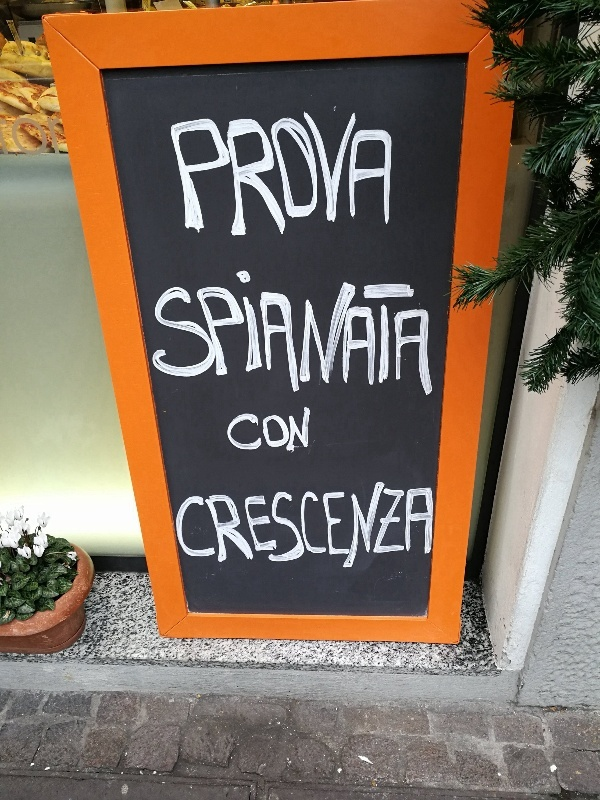text: (161, 259, 176, 405), (177, 259, 192, 405), (193, 259, 208, 405), (209, 259, 224, 405), (225, 259, 240, 405), (241, 259, 256, 405), (257, 259, 272, 405), (273, 259, 288, 405), (289, 259, 304, 405), (305, 259, 320, 405), (321, 259, 336, 405), (337, 259, 352, 405), (353, 259, 368, 405), (369, 259, 384, 405), (385, 259, 400, 405), (401, 259, 416, 405), (417, 259, 432, 405), (177, 104, 192, 244), (193, 104, 208, 244), (209, 104, 224, 244), (225, 104, 240, 244), (241, 104, 256, 244), (257, 104, 272, 244), (273, 104, 288, 244), (289, 104, 304, 244), (305, 104, 320, 244), (321, 104, 336, 244), (337, 104, 352, 244), (353, 104, 368, 244), (369, 104, 384, 244), (147, 259, 160, 405), (165, 104, 176, 244), (177, 478, 192, 577), (193, 478, 208, 577), (209, 478, 224, 577), (225, 478, 240, 577), (241, 478, 256, 577), (257, 478, 272, 577), (273, 478, 288, 577), (289, 478, 304, 577), (305, 478, 320, 577), (321, 478, 336, 577), (337, 478, 352, 577), (353, 478, 368, 577), (369, 478, 384, 577), (385, 478, 400, 577), (401, 478, 416, 577), (417, 478, 432, 577), (385, 104, 393, 244), (225, 403, 240, 455), (241, 403, 256, 455), (257, 403, 272, 455), (273, 403, 288, 455), (289, 403, 304, 455), (433, 259, 437, 405), (171, 478, 176, 577), (305, 403, 311, 455), (433, 478, 436, 577)
